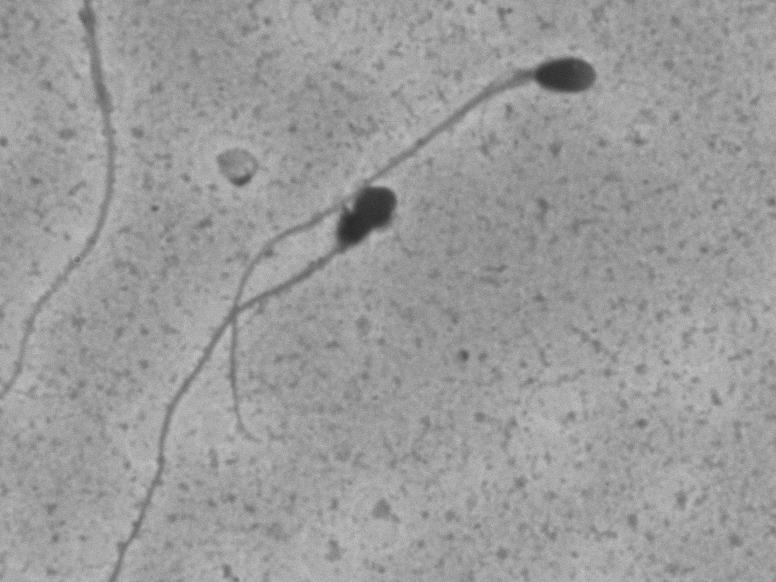Normal: (221, 39, 629, 471)
